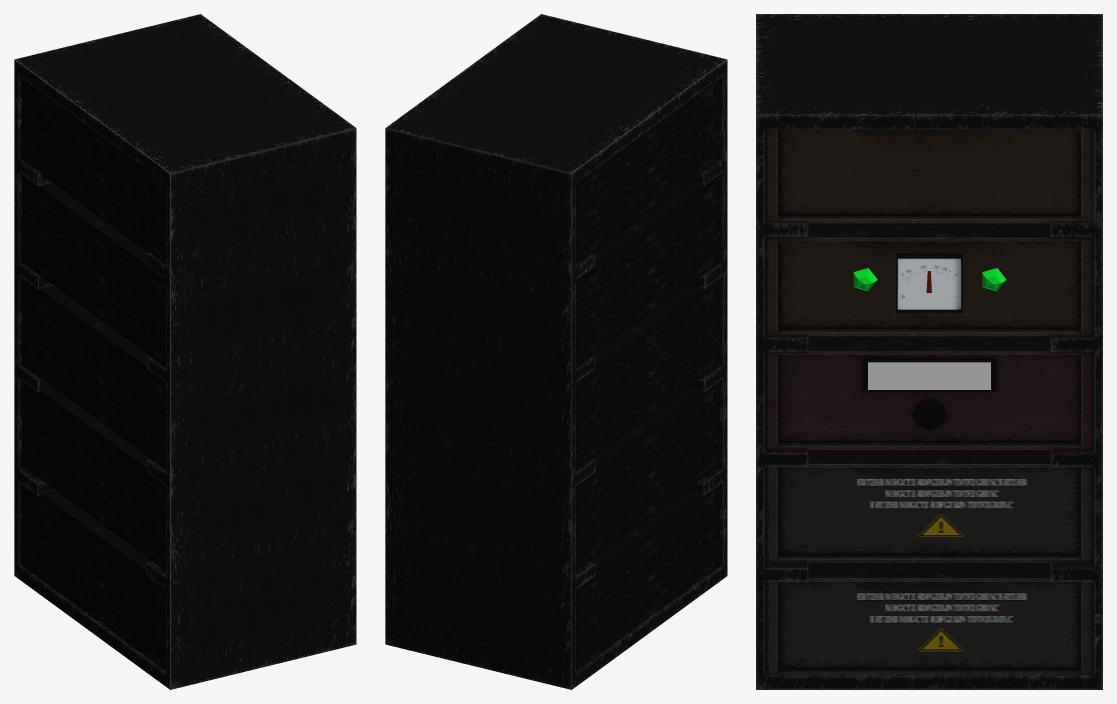
File: Rack.fbx
The picture shows the model from 3 angles, left to right: view 1: azimuth 30°, elevation 25°; view 2: azimuth 150°, elevation 25°; view 3: azimuth 270°, elevation 25°; orthographic projection. The views are drawn at different scales.
Parts seen in each view (by area): view 1: Rack_base, Signal_Quality, Frequency_module, Signal_Quality.001, Signal_Quality.002, Signal_Quality.003; view 2: Rack_base, Signal_Quality, Frequency_module, Signal_Quality.001, Signal_Quality.002, Signal_Quality.003; view 3: Rack_base, Signal_Quality.001, Signal_Quality.002, Signal_Quality, Frequency_module, Signal_Quality.003, Frequency_screen, Quality_screen, Frequency_knob.
Boxes of the visible parts, left/top/right/bottom form: Rack_base: left=14, top=14, right=356, bottom=689; Signal_Quality: left=22, top=174, right=166, bottom=367; Frequency_module: left=22, top=278, right=166, bottom=469; Signal_Quality.001: left=22, top=381, right=166, bottom=570; Signal_Quality.002: left=22, top=484, right=166, bottom=670; Signal_Quality.003: left=22, top=78, right=166, bottom=263; Rack_base: left=385, top=14, right=727, bottom=689; Signal_Quality: left=575, top=174, right=719, bottom=367; Frequency_module: left=575, top=278, right=719, bottom=469; Signal_Quality.001: left=575, top=381, right=719, bottom=570; Signal_Quality.002: left=575, top=484, right=719, bottom=670; Signal_Quality.003: left=575, top=78, right=719, bottom=263; Rack_base: left=756, top=14, right=1102, bottom=689; Signal_Quality.001: left=765, top=450, right=1093, bottom=562; Signal_Quality.002: left=765, top=562, right=1093, bottom=673; Signal_Quality: left=765, top=223, right=1093, bottom=336; Frequency_module: left=765, top=336, right=1093, bottom=449; Signal_Quality.003: left=765, top=129, right=1093, bottom=223; Frequency_screen: left=864, top=360, right=994, bottom=391; Quality_screen: left=896, top=253, right=962, bottom=312; Frequency_knob: left=914, top=400, right=944, bottom=430.
Size of the model in its own units: 138 by 366 by 200.
11 materials, 7 textured.
